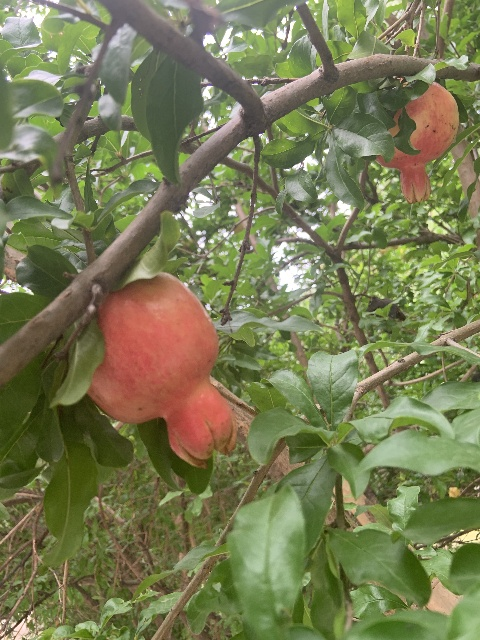ripe: (86, 273, 236, 464), (376, 81, 459, 204)
